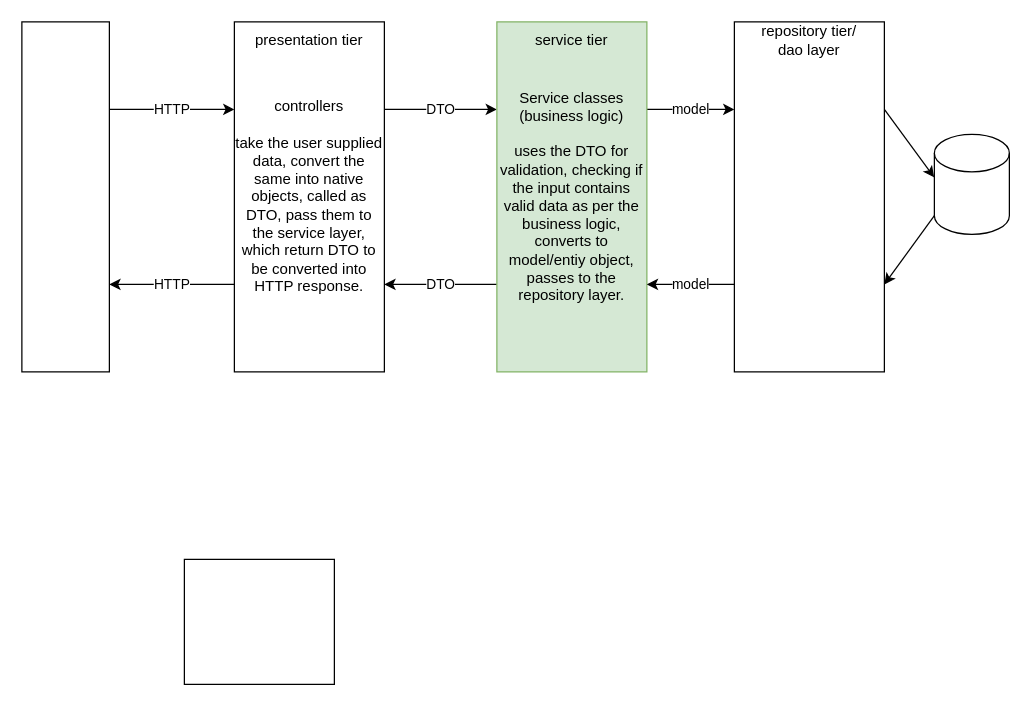
This 1031x706 diagram has some shape labels left out. Each missing label, with the box of its shape:
client (web or desktop or mobile app): (21, 21, 109, 372)
persistence mechanism: JSON, XML, RDBMS (ADO.Net or EF), NOSQL,: (733, 21, 884, 372)
